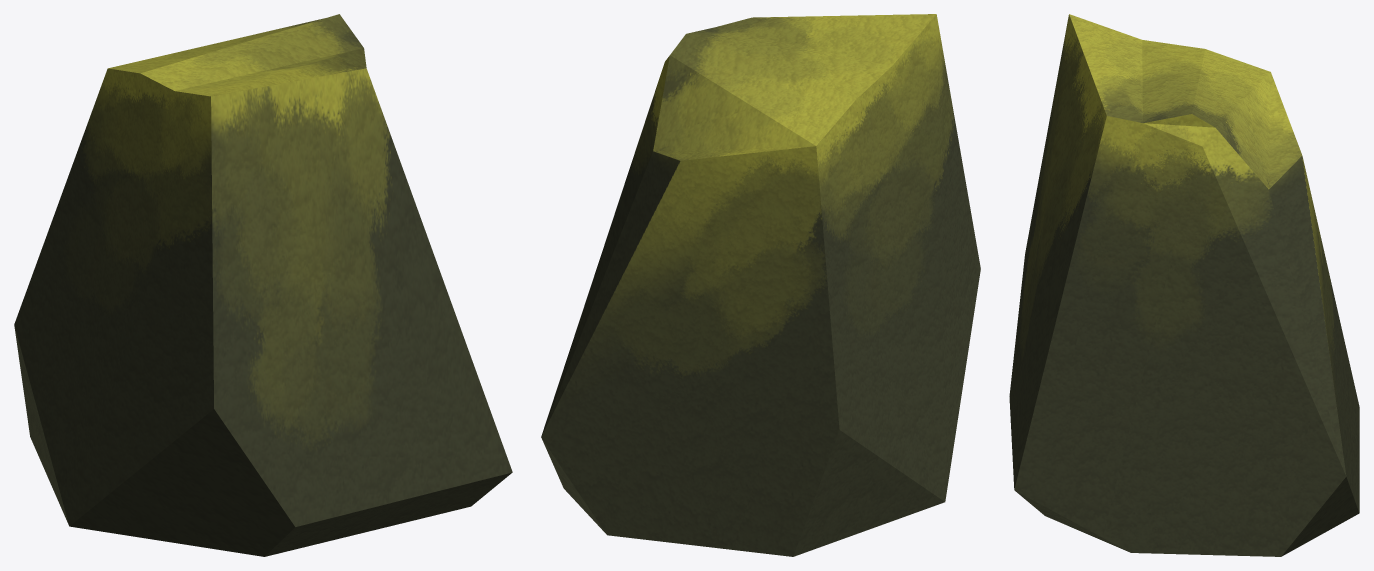
File: oreE1.fbx
3 renders of one model, left to right at view 1: azimuth 30°, elevation 25°; view 2: azimuth 150°, elevation 25°; view 3: azimuth 270°, elevation 25°, orthographic. The views are drawn at different scales.
Visible parts, largest first — view 1: Cube.004; view 2: Cube.004; view 3: Cube.004.
Boxes of the visible parts, bbox=[...] form: Cube.004: bbox=[14, 14, 512, 556]; Cube.004: bbox=[541, 14, 980, 556]; Cube.004: bbox=[1009, 14, 1359, 556].
Size of the model in its own units: 186 by 250 by 189.
